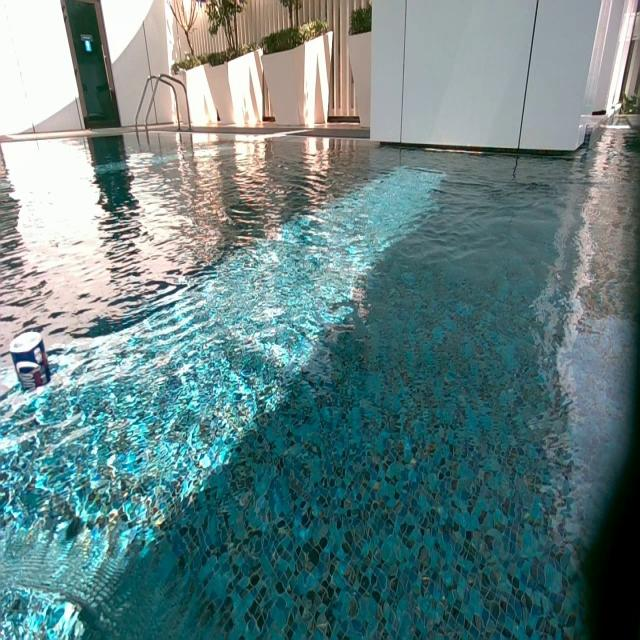Cans: (6, 327, 47, 377)
